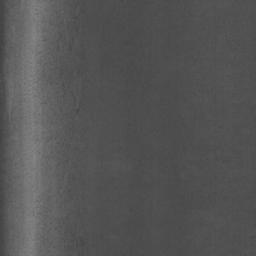Silk spot: (33, 0, 90, 256)
